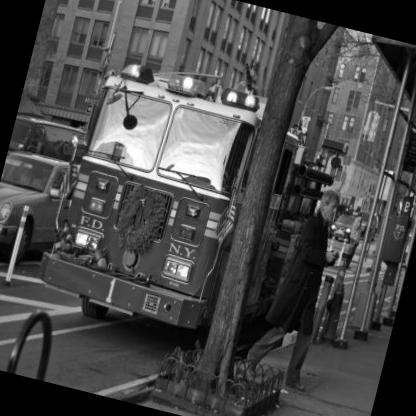truck: (2, 20, 359, 376)
